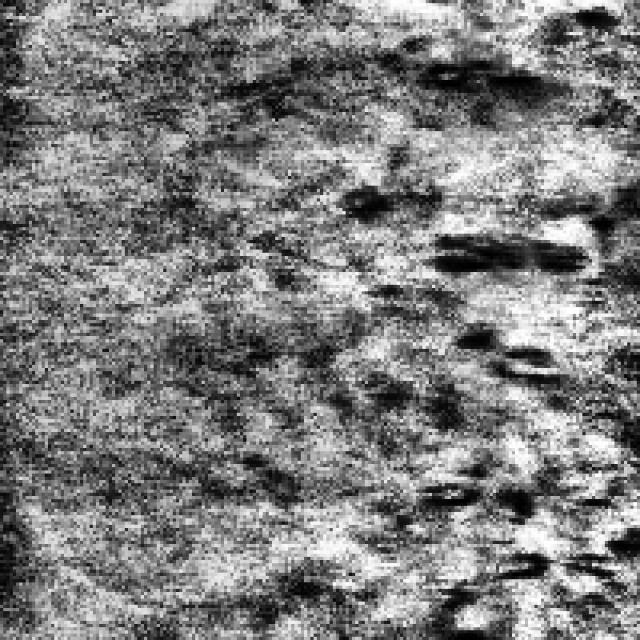Crazing: (407, 208, 628, 634), (380, 0, 612, 106)
